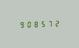eight: (32, 20, 38, 28)
five: (39, 20, 45, 27)
nine: (17, 20, 23, 28)
seven: (46, 19, 52, 27)
two: (53, 19, 59, 27)
zero: (24, 20, 30, 28)
